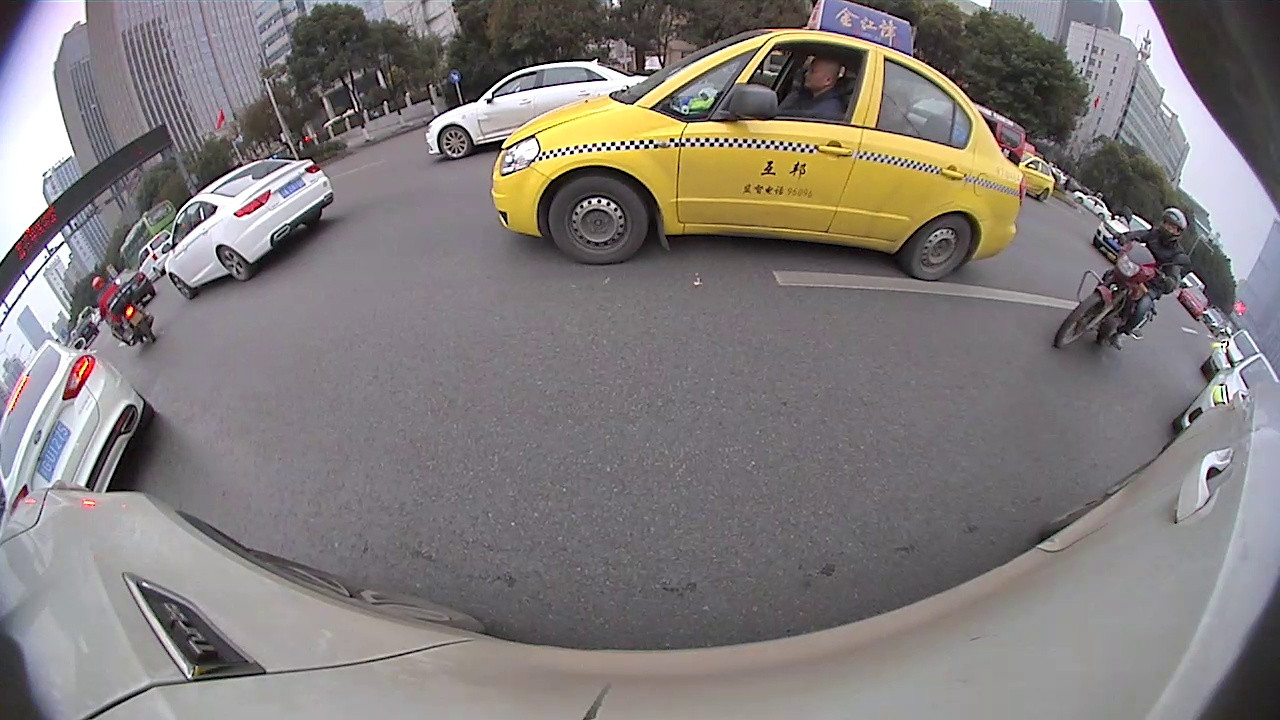car: (491, 2, 1023, 279), (1, 340, 156, 508), (168, 159, 334, 298), (425, 63, 648, 159), (1173, 355, 1278, 439), (1203, 331, 1262, 379), (1094, 216, 1148, 261), (1013, 159, 1055, 198), (136, 231, 171, 274), (119, 270, 151, 303)
front: (547, 172, 651, 268), (1052, 293, 1105, 350), (437, 125, 472, 159), (169, 272, 196, 301)
rear: (911, 217, 976, 281), (217, 244, 250, 283)
rider: (1053, 209, 1188, 352), (93, 278, 154, 347)
